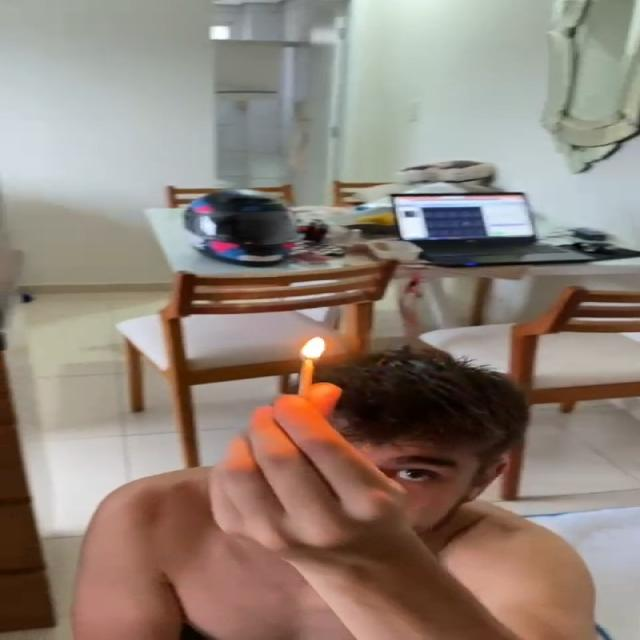fogo-ypXI: (299, 335, 326, 361)
